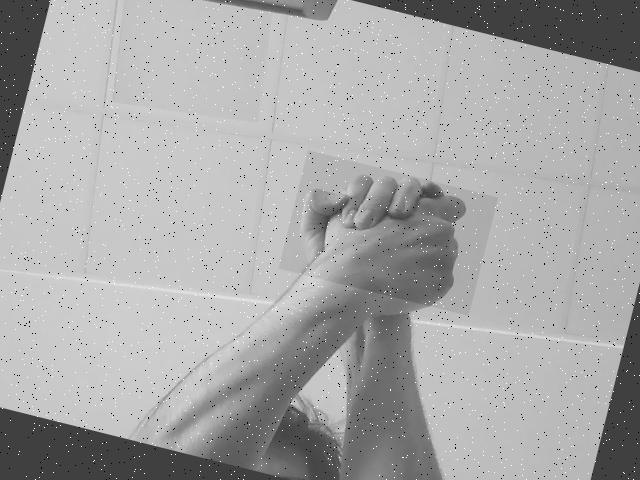friend: (278, 150, 498, 316)
